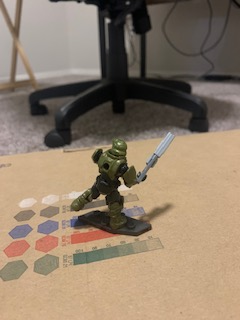soldier: (68, 129, 176, 229)
